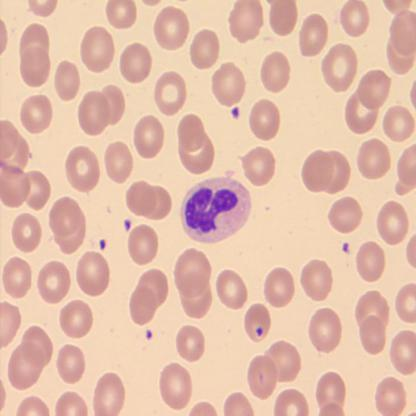Segmented neutrophil: (180, 174, 254, 245)
